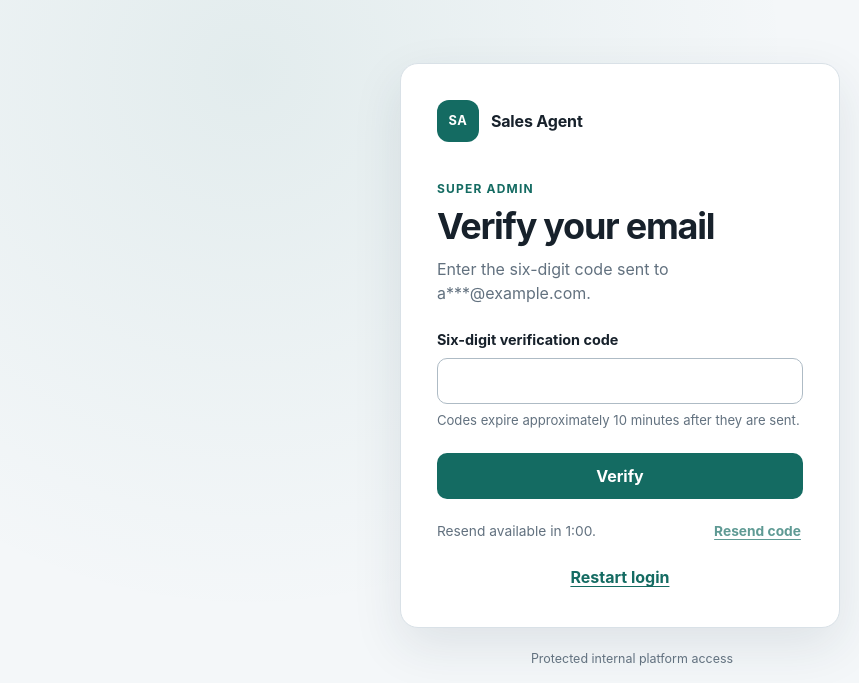
Test: Super Admin OTP verification › maps a fifth-attempt response to the attempts-exceeded state
Type "999999" into the field labelled "Six-digit verification code". click: (620, 381)
box: [437,358,803,404]
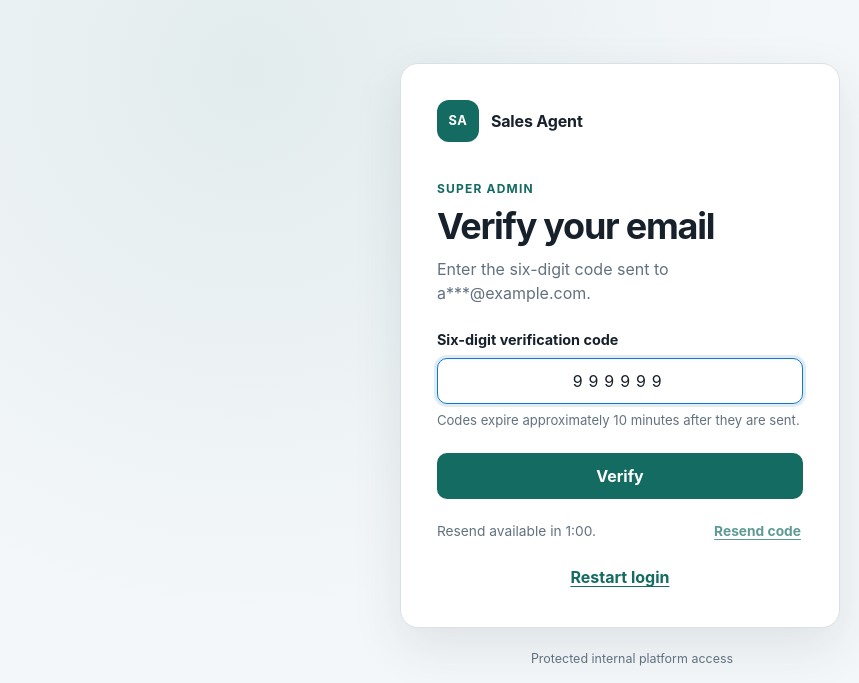
Click the button "Verify". click: (620, 476)
box: [437,453,803,499]
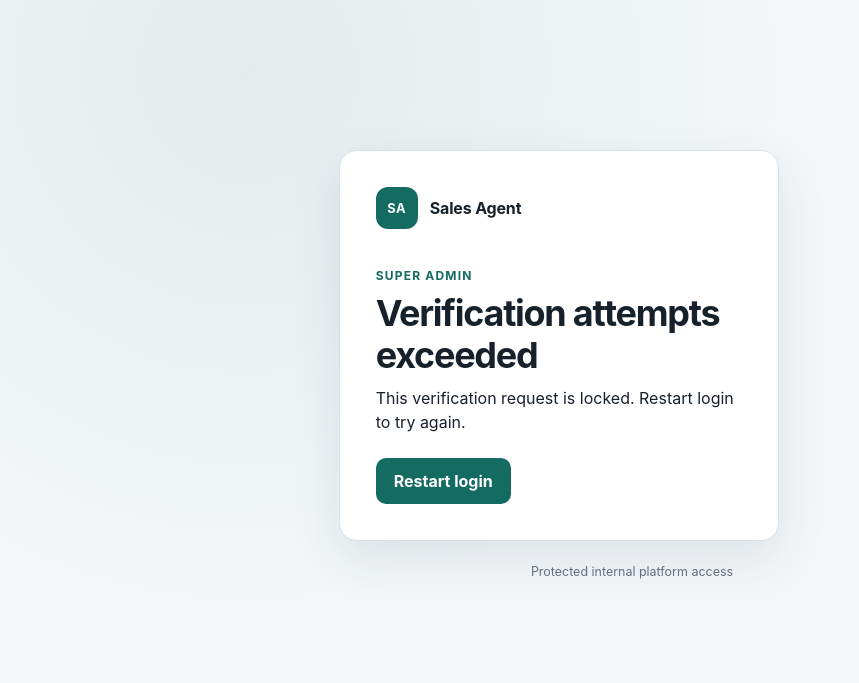
Result: the heading "Verification attempts exceeded" is shown at [376,293,742,376]
